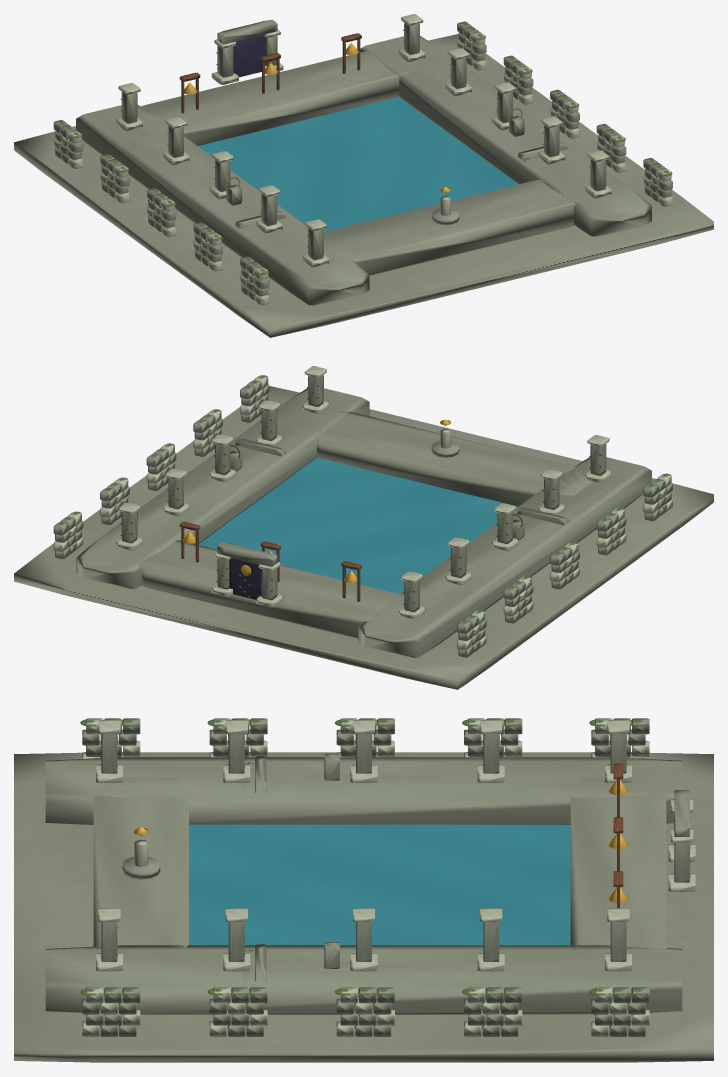
Rendered from abbey_corrupted.glb.
The picture shows the model from 3 angles, top to bottom: view 1: azimuth 30°, elevation 25°; view 2: azimuth 150°, elevation 25°; view 3: azimuth 270°, elevation 25°; orthographic projection. The views are drawn at different scales.
Visible parts, largest first — view 1: abbey_corrupted_StaticBatch; view 2: abbey_corrupted_StaticBatch; view 3: abbey_corrupted_StaticBatch.
Boxes of the visible parts, x1,y1,x2,y2 form: abbey_corrupted_StaticBatch: (14, 14, 713, 337); abbey_corrupted_StaticBatch: (14, 366, 713, 689); abbey_corrupted_StaticBatch: (14, 718, 713, 1062).
Size of the model in its own units: 22 by 3.7 by 22.
Materials: 1 (1 with a texture image).
